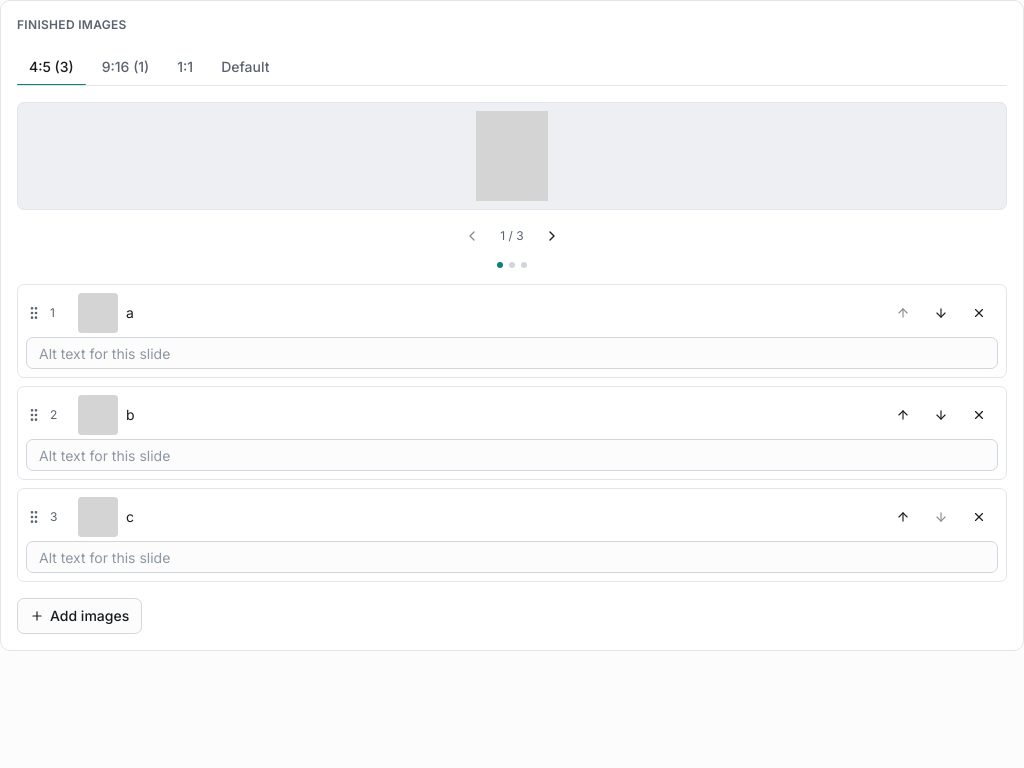
Scenario: CarouselSlidesSection › switches placement and shows that placement's slides
What coordinates should you click on to do the following:
click the tab "9:16 (1)"
I would click on:
 (126, 67)
Its box is [90,49,161,85].
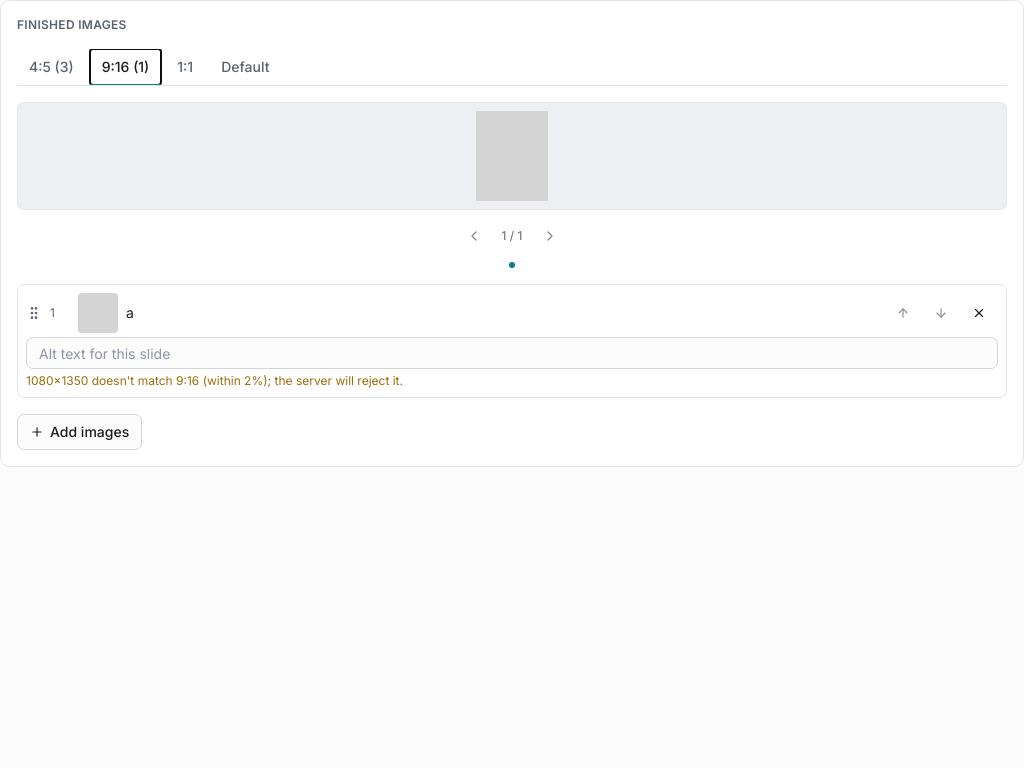
Result: the text with test id "carousel-position" reads "1 / 1" at [502,228,522,244]
What coordinates should you click on to do the following:
click the tab "1:1"
I would click on:
 (185, 67)
Its box is [165,49,205,85].
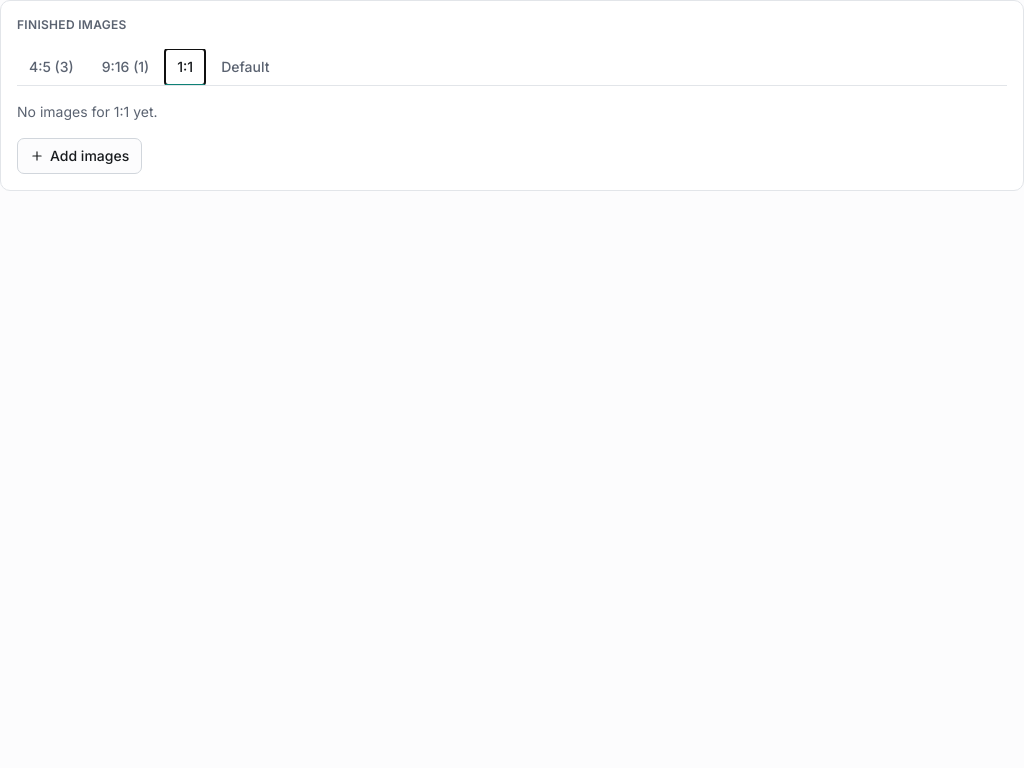
Result: the text "No images for 1:1 yet." is shown at [17,103,158,120]
